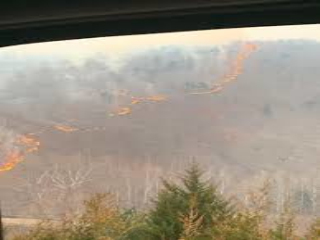fire: (204, 41, 265, 97), (2, 126, 46, 178), (107, 87, 172, 119), (55, 122, 97, 138)
